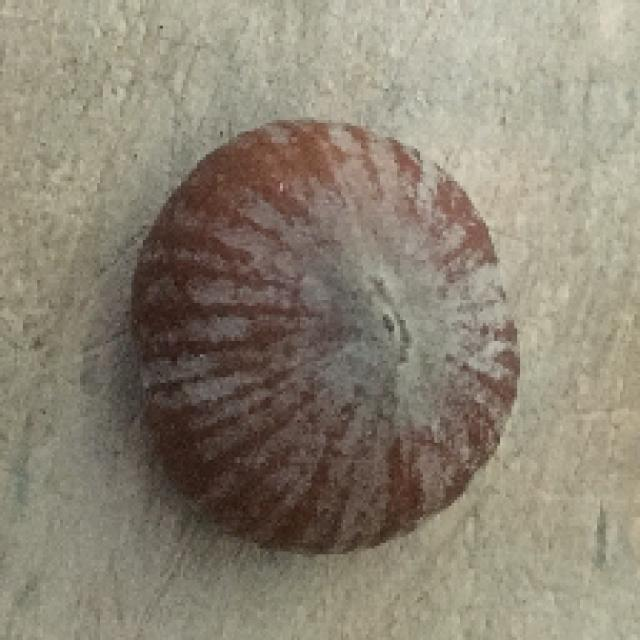QualityHazelnut: (129, 119, 526, 552)
